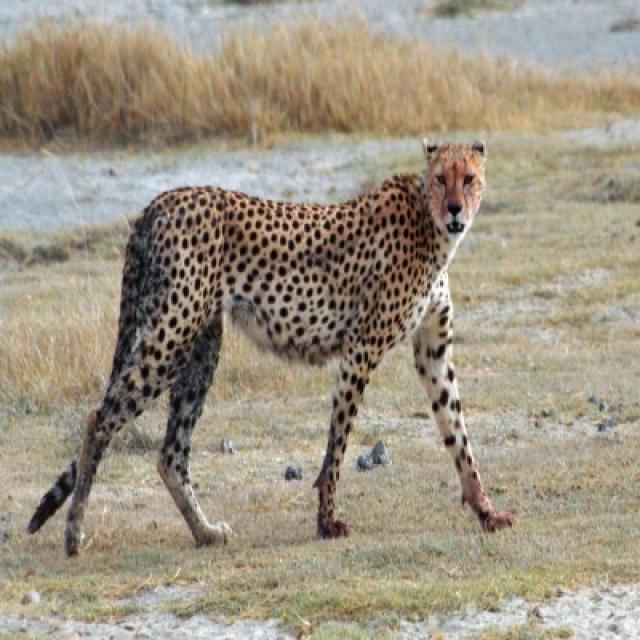Cheetah: (26, 144, 514, 560)
